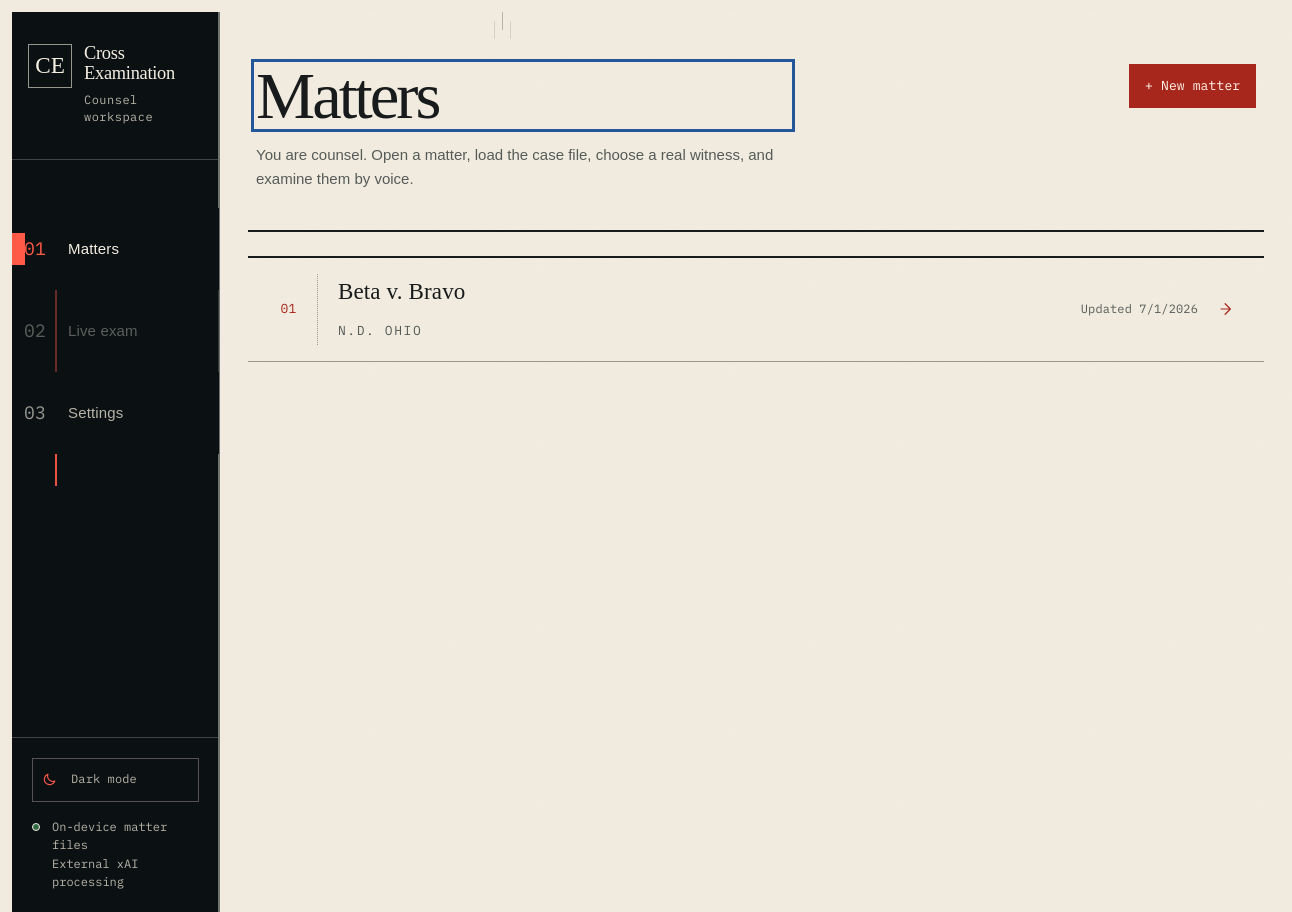
App async ownership › deletes a confirmed saved session immediately and restores focus to Past sessions
The width and height of the screenshot is (1292, 912).
Click the button "01 Beta v. Bravo N.D. Ohio Updated 7/1/2026".
click(289, 310)  # box [248,258,1264,362]
(page scrolled)
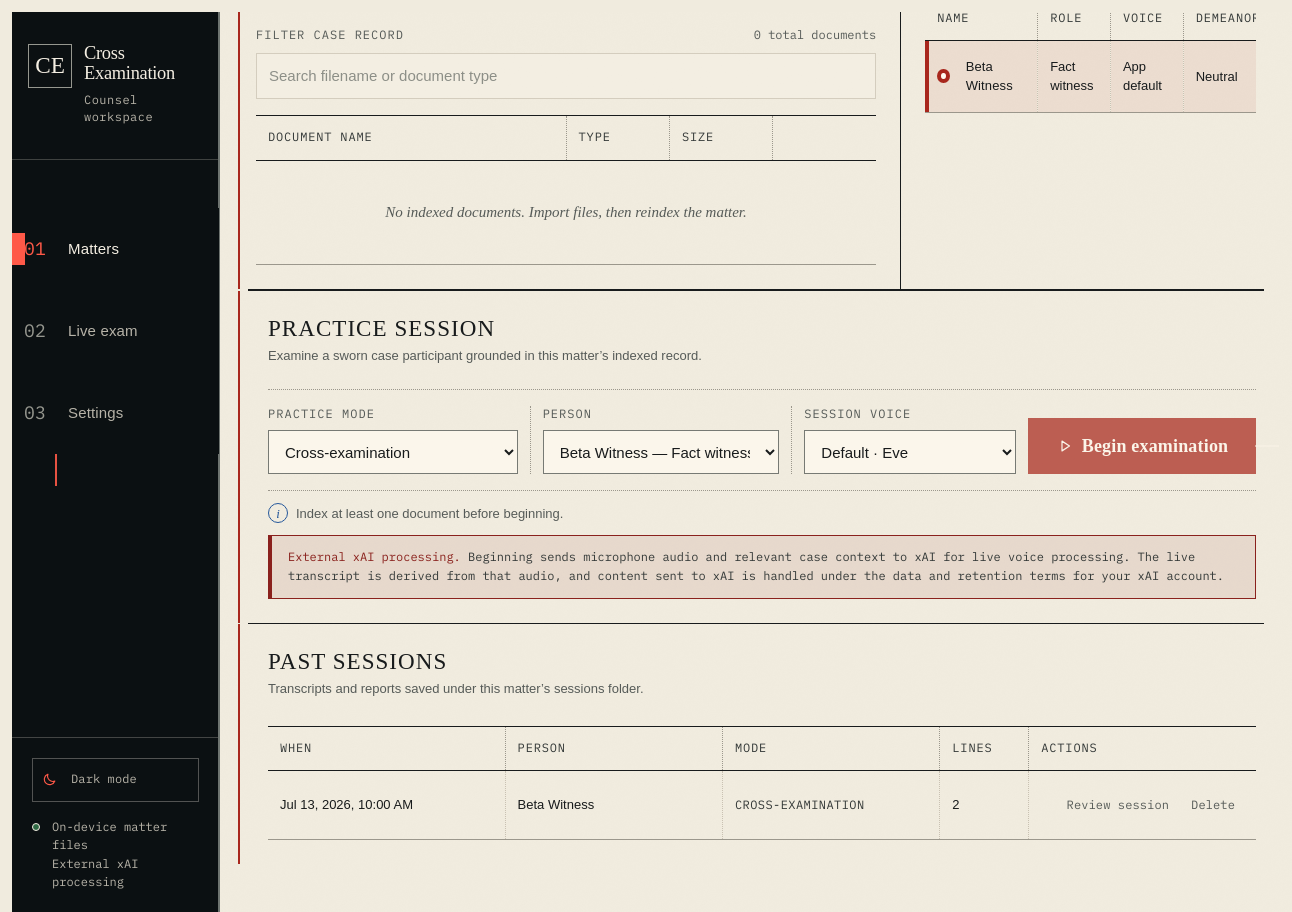
Click the button with aria-label "Delete saved session for Beta Witness".
click(1213, 805)  # box [1182,783,1244,827]
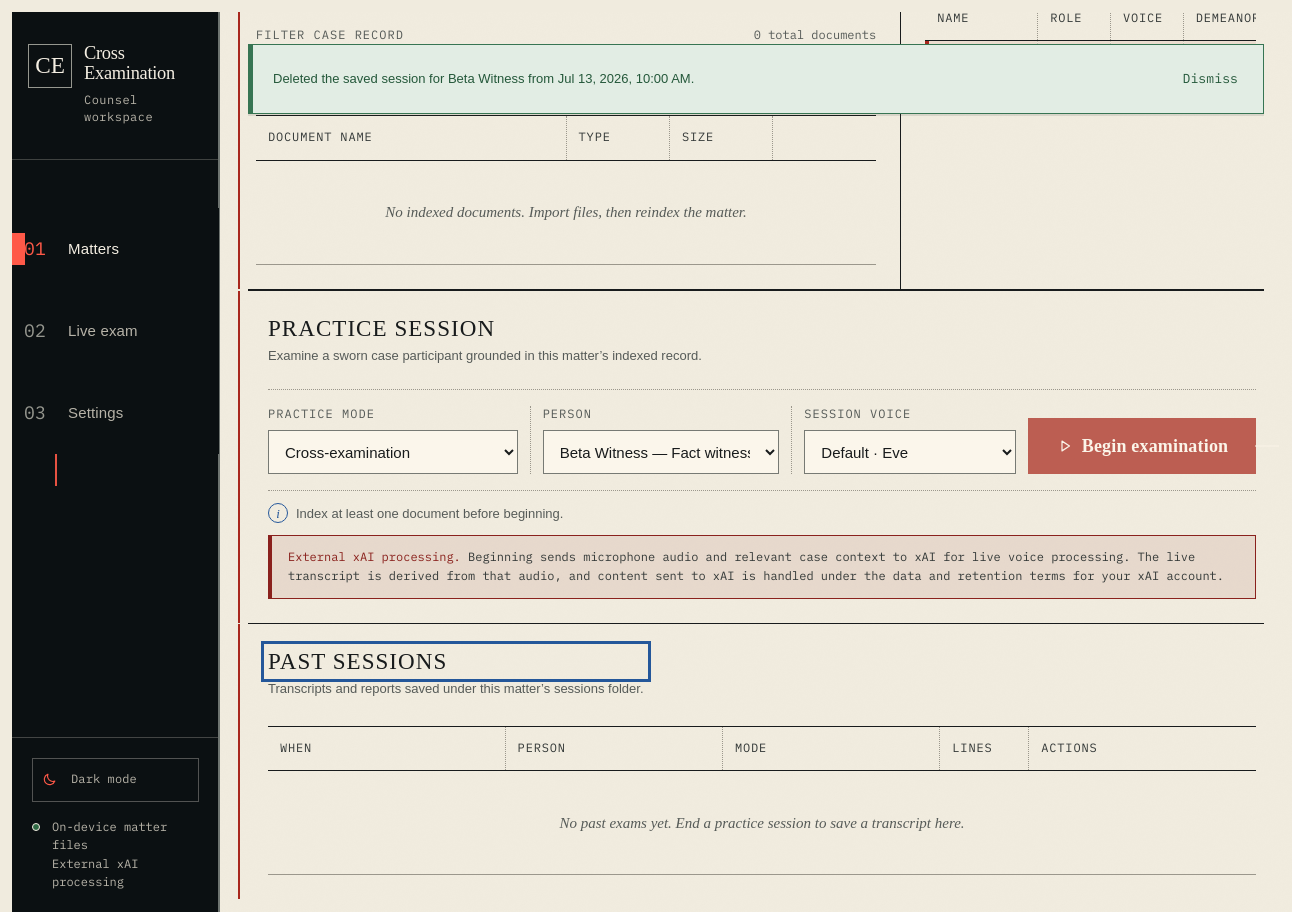
Expected: the text "Deleted the saved session for Beta Witness" is shown, [273,71,694,86]
Expected: the button "Review session" is gone
